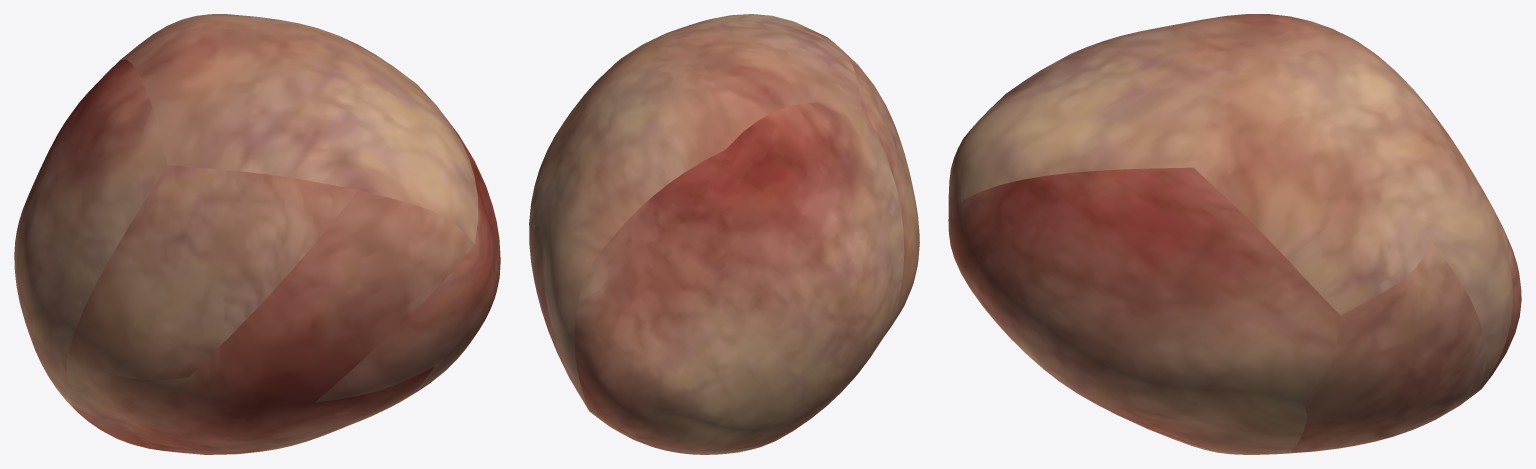
File: Meat.fbx
3 views of the same model, side by side, from view 1: azimuth 30°, elevation 25°; view 2: azimuth 150°, elevation 25°; view 3: azimuth 270°, elevation 25° (orthographic). The views are drawn at different scales.
Parts seen in each view (by area): view 1: DogMeatLumps; view 2: DogMeatLumps; view 3: DogMeatLumps.
Boxes of the visible parts, x1,y1,x2,y2 form: DogMeatLumps: (14, 14, 500, 454); DogMeatLumps: (529, 14, 919, 454); DogMeatLumps: (948, 14, 1521, 454).
Bounding box in the file's own units: 1.86 × 1.87 × 2.35.
1 material, 1 textured.
